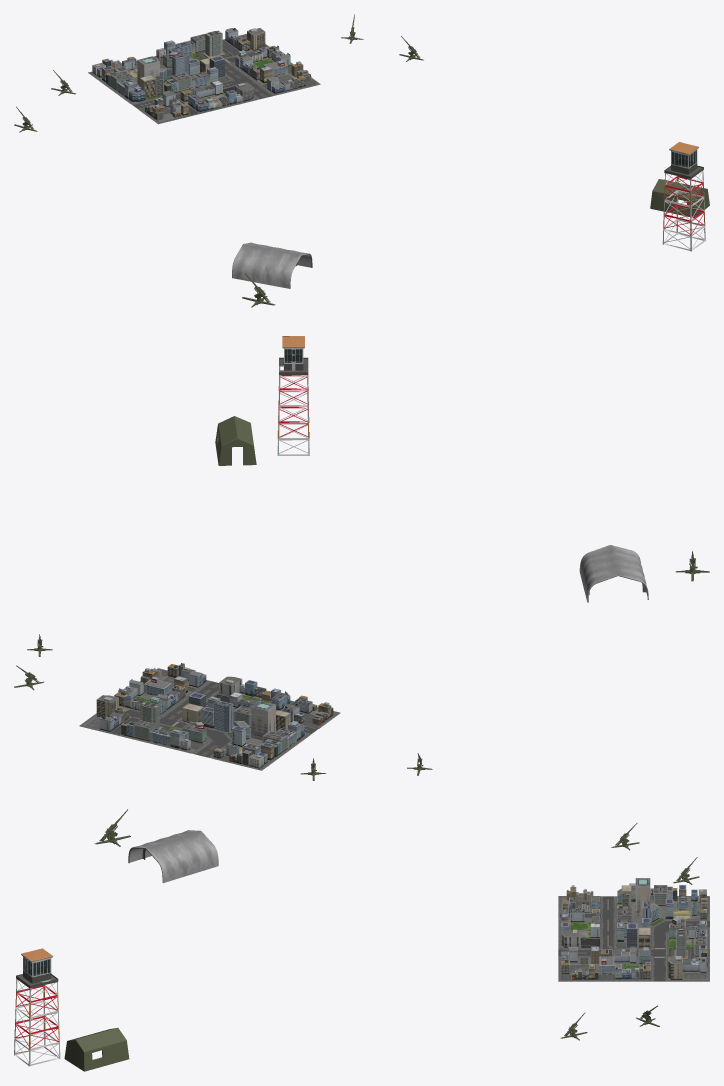
The model's file is Osaka.glb.
3 renders of one model, top to bottom at view 1: azimuth 30°, elevation 25°; view 2: azimuth 150°, elevation 25°; view 3: azimuth 270°, elevation 25°, orthographic. The views are drawn at different scales.
Visible parts, largest first — view 1: Object_32, defaultMaterial.263, clothBuilding001_Material #67_0, Box001_Main Tent_0; view 2: Object_32, defaultMaterial.263, clothBuilding001_Material #67_0, Box001_Main Tent_0; view 3: Object_32, defaultMaterial.263, clothBuilding001_Material #67_0, Box001_Main Tent_0.
Boxes of the visible parts, x1,y1,x2,y2 form: Object_32: (88,28,320,124); defaultMaterial.263: (662,142,705,251); clothBuilding001_Material #67_0: (232,242,312,288); Box001_Main Tent_0: (650,179,709,217); Object_32: (79,663,340,770); defaultMaterial.263: (277,336,309,455); clothBuilding001_Material #67_0: (579,545,648,602); Box001_Main Tent_0: (215,416,256,465); Object_32: (558,878,709,981); defaultMaterial.263: (14,948,60,1066); clothBuilding001_Material #67_0: (128,830,218,882); Box001_Main Tent_0: (64,1027,129,1071).
Size of the model in its own units: 206 by 41.82 by 257.
Materials: 18 (6 with a texture image).
